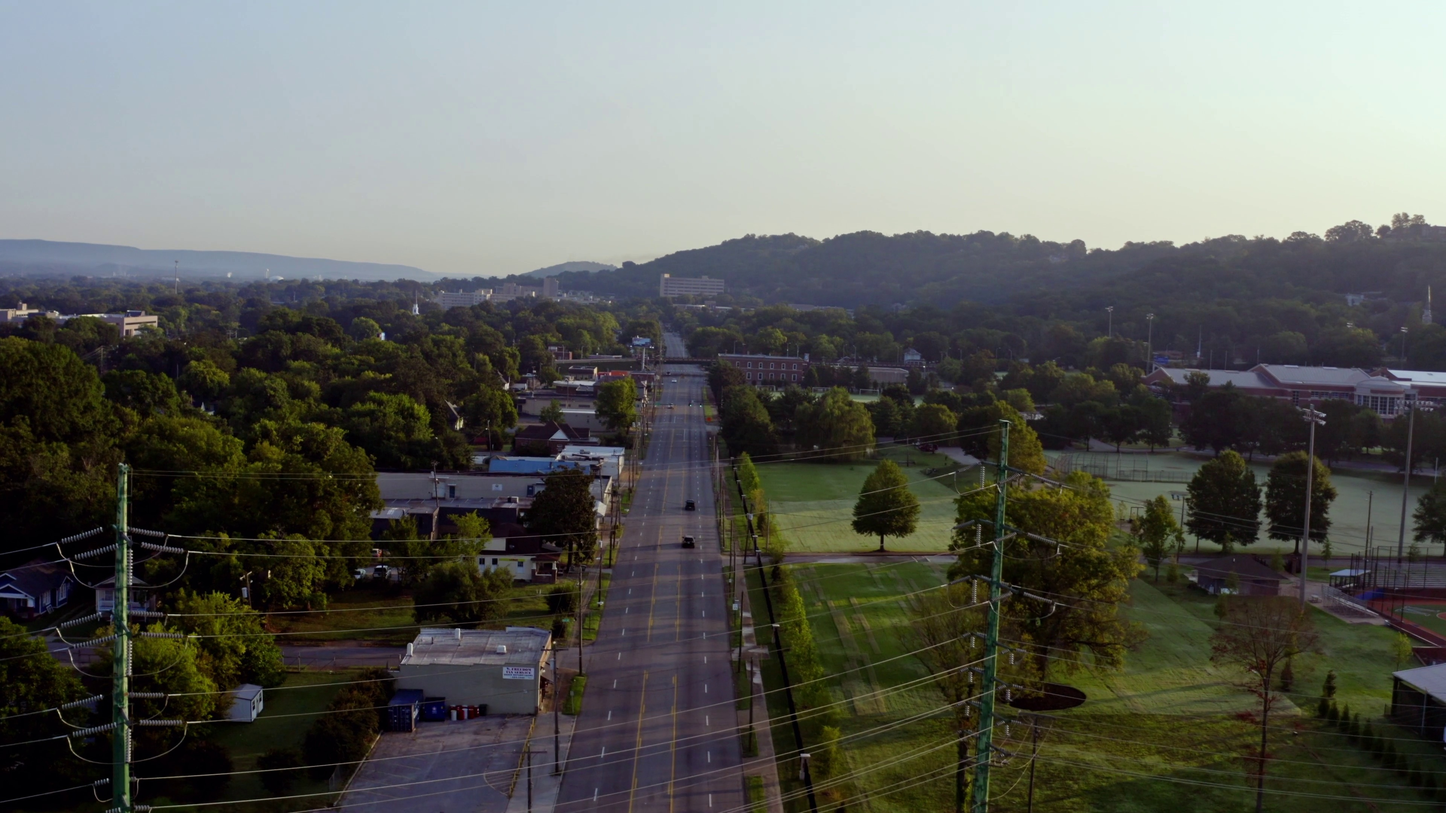Vehicle: (373, 565, 392, 579), (681, 535, 695, 548), (353, 569, 366, 579), (685, 500, 695, 511), (370, 549, 382, 557), (669, 403, 674, 408), (671, 379, 677, 383), (666, 371, 671, 375)
